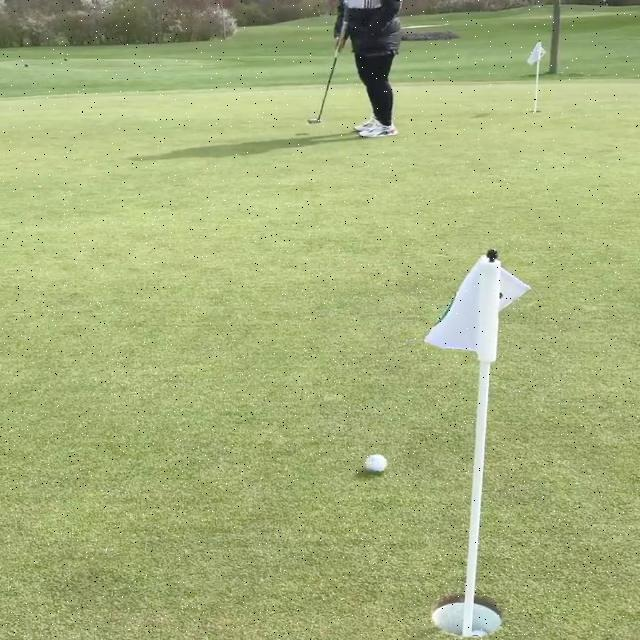ClubHead: (308, 118, 320, 124)
GolfBall: (366, 454, 388, 472), (471, 630, 487, 636)
